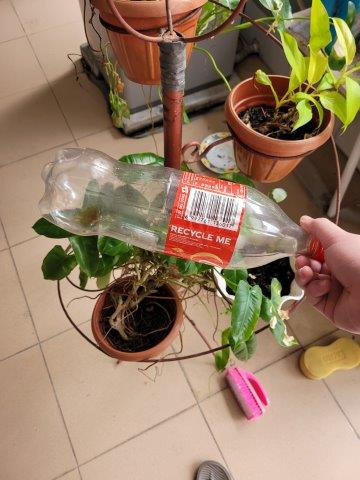botolplastik: (39, 147, 317, 263)
